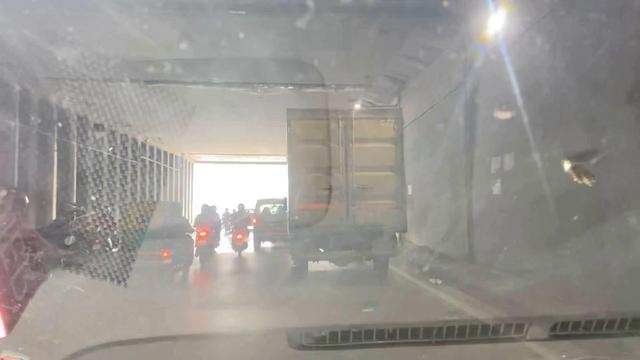HMV: (286, 110, 407, 281)
LMV: (197, 203, 222, 262), (230, 202, 254, 256)
